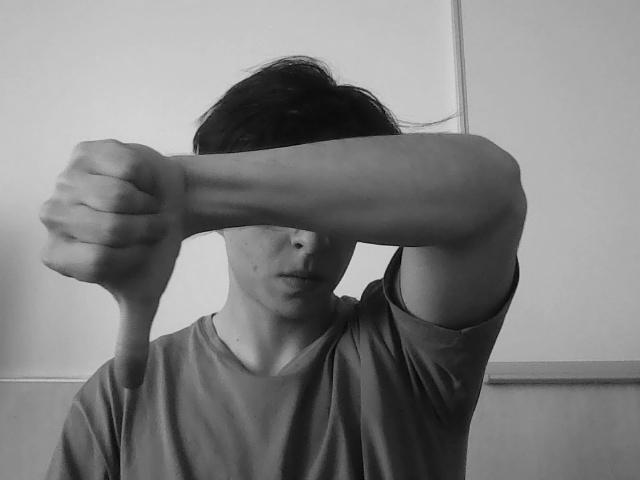bad: (32, 140, 188, 362)
